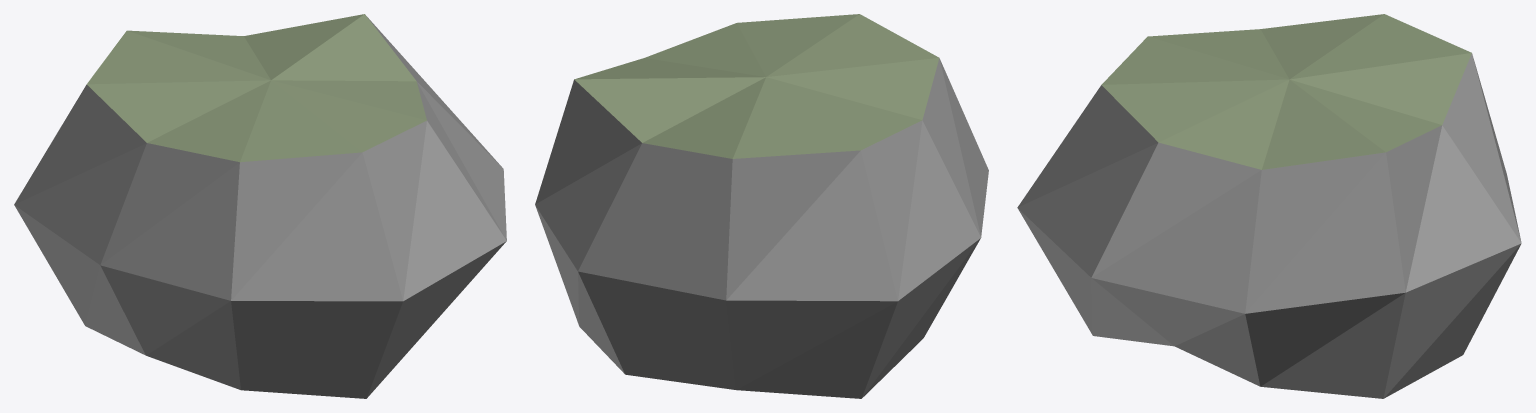
File: rock.glb
3 views of the same model, side by side, from view 1: azimuth 30°, elevation 25°; view 2: azimuth 150°, elevation 25°; view 3: azimuth 270°, elevation 25° (orthographic). The views are drawn at different scales.
Visible parts, largest first — view 1: rock; view 2: rock; view 3: rock.
Boxes of the visible parts, box(x1,y1,x2,y2) form: rock: box(14, 14, 506, 398); rock: box(535, 14, 988, 398); rock: box(1017, 14, 1521, 398).
Bounding box in the file's own units: 1.99 × 1.22 × 2.09.
